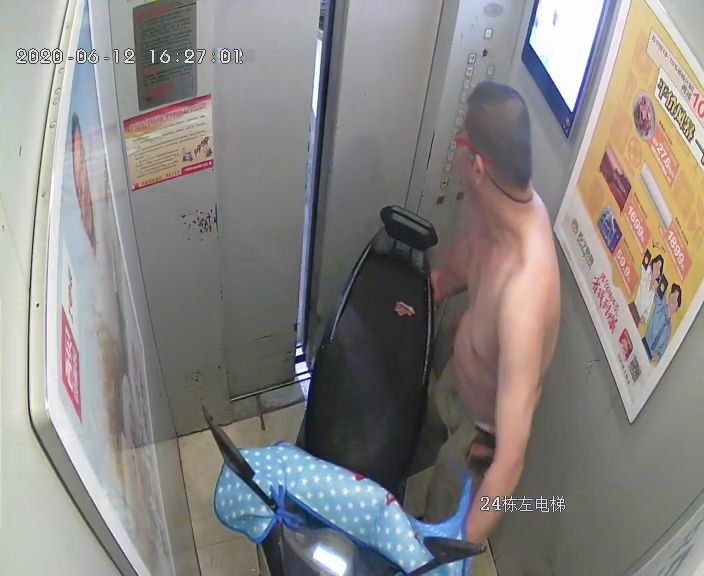Electric-bicycle: (201, 202, 486, 576)
